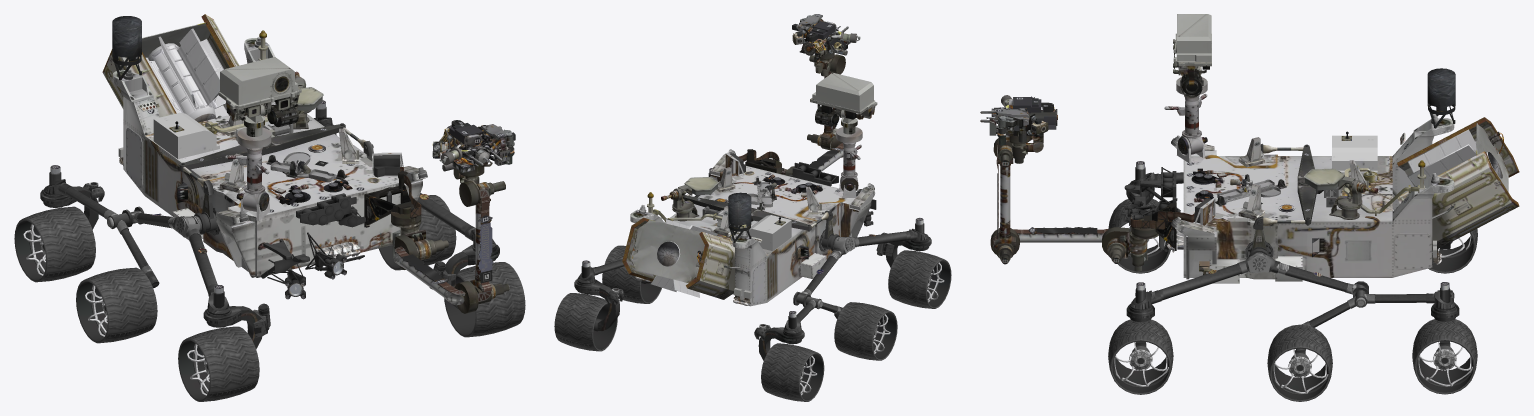
The model's file is rover-transformed.glb.
3 renders of one model, left to right at view 1: azimuth 30°, elevation 25°; view 2: azimuth 150°, elevation 25°; view 3: azimuth 270°, elevation 25°, orthographic. The views are drawn at different scales.
Bounding box in the file's own units: 2.78 × 2.21 × 4.
Materials: 9 (7 with a texture image).
